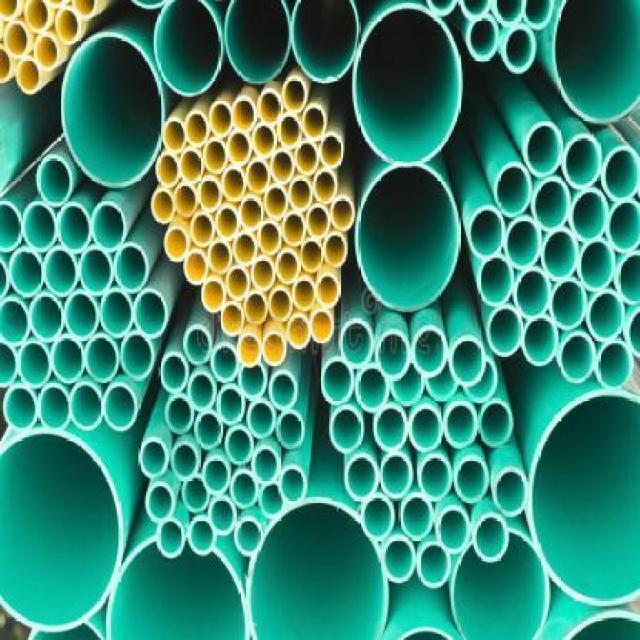pipe: (524, 389, 640, 607), (0, 429, 123, 632), (246, 496, 389, 639), (353, 6, 462, 167), (60, 32, 165, 189), (356, 163, 461, 312), (105, 534, 250, 639), (449, 528, 551, 639), (554, 0, 639, 123), (154, 0, 222, 97), (223, 0, 291, 85), (291, 0, 359, 83), (525, 121, 564, 177), (563, 135, 603, 189), (601, 146, 640, 201), (494, 163, 533, 217), (532, 178, 571, 231), (570, 188, 609, 241), (578, 239, 617, 292), (467, 205, 505, 258), (541, 229, 580, 280), (476, 255, 515, 306), (587, 292, 626, 343), (36, 154, 73, 207), (91, 200, 127, 253), (21, 201, 57, 254), (56, 201, 92, 254), (113, 241, 149, 294), (411, 325, 447, 378), (505, 217, 542, 268), (551, 279, 588, 330), (487, 306, 524, 357), (523, 316, 560, 367), (559, 332, 596, 383), (454, 456, 491, 507), (43, 246, 79, 297), (78, 246, 114, 297), (29, 292, 65, 343), (514, 269, 551, 318), (449, 337, 486, 386), (376, 329, 411, 380), (597, 342, 634, 390), (473, 515, 510, 563), (99, 290, 135, 339), (17, 340, 53, 389), (607, 201, 640, 254), (9, 247, 43, 298), (134, 289, 168, 340), (65, 290, 99, 341), (119, 331, 155, 379), (50, 335, 86, 383), (102, 383, 138, 431), (2, 385, 38, 433), (372, 402, 408, 450), (408, 404, 444, 452), (492, 469, 528, 517), (85, 334, 119, 383), (69, 381, 103, 430), (503, 27, 537, 76), (378, 453, 414, 499), (400, 494, 436, 540), (339, 319, 373, 367), (479, 399, 513, 447), (382, 536, 416, 584), (467, 15, 500, 63), (345, 453, 378, 501), (320, 359, 354, 405), (38, 383, 72, 429), (445, 402, 479, 448), (329, 406, 363, 452), (417, 543, 451, 589), (464, 358, 498, 403), (391, 361, 425, 406), (356, 368, 390, 413), (419, 455, 453, 500), (362, 495, 396, 540), (436, 510, 471, 553), (0, 299, 31, 347), (425, 359, 458, 401), (186, 370, 217, 413), (145, 481, 176, 524), (615, 251, 640, 304), (159, 351, 190, 393), (165, 393, 196, 435), (268, 370, 299, 410), (0, 200, 23, 253), (183, 324, 212, 366), (211, 342, 240, 384), (194, 408, 223, 450), (140, 437, 169, 479), (170, 439, 199, 481), (157, 517, 186, 559), (237, 362, 268, 400), (277, 466, 308, 504), (247, 399, 276, 439), (277, 410, 306, 450), (225, 426, 254, 466), (202, 455, 231, 495), (230, 469, 259, 509), (208, 496, 237, 536), (182, 473, 210, 513), (188, 516, 216, 556), (251, 446, 280, 484), (3, 20, 31, 59), (259, 482, 287, 519), (282, 75, 308, 114), (0, 340, 20, 389), (302, 103, 327, 142), (55, 6, 80, 45), (34, 33, 59, 72), (15, 55, 40, 94), (183, 249, 209, 285), (185, 111, 210, 148), (162, 117, 187, 154), (227, 129, 252, 166), (320, 132, 345, 169), (295, 139, 320, 176), (271, 148, 296, 185), (155, 152, 180, 189), (173, 182, 198, 219), (151, 188, 176, 225), (239, 194, 264, 231), (331, 195, 356, 232), (282, 210, 307, 247), (292, 275, 317, 312), (258, 89, 283, 126), (197, 177, 223, 212), (179, 148, 204, 184), (264, 185, 289, 221), (323, 231, 348, 267), (250, 256, 275, 292), (219, 301, 244, 337), (262, 331, 287, 367), (232, 97, 257, 133), (523, 0, 554, 29), (210, 100, 233, 139), (200, 279, 226, 313), (268, 288, 294, 322), (306, 204, 331, 239), (215, 204, 240, 239), (190, 212, 215, 247), (257, 220, 282, 255), (164, 226, 189, 261), (275, 249, 300, 284), (203, 137, 226, 174), (493, 0, 527, 25), (277, 115, 302, 149), (252, 124, 277, 158), (246, 159, 271, 193), (222, 168, 247, 202), (313, 169, 338, 203), (233, 232, 258, 266), (208, 239, 233, 273), (315, 274, 340, 308), (244, 291, 269, 325), (310, 310, 335, 344), (237, 333, 262, 367), (24, 0, 50, 32), (287, 315, 310, 351), (225, 267, 250, 300), (290, 177, 313, 212), (300, 239, 323, 273)
